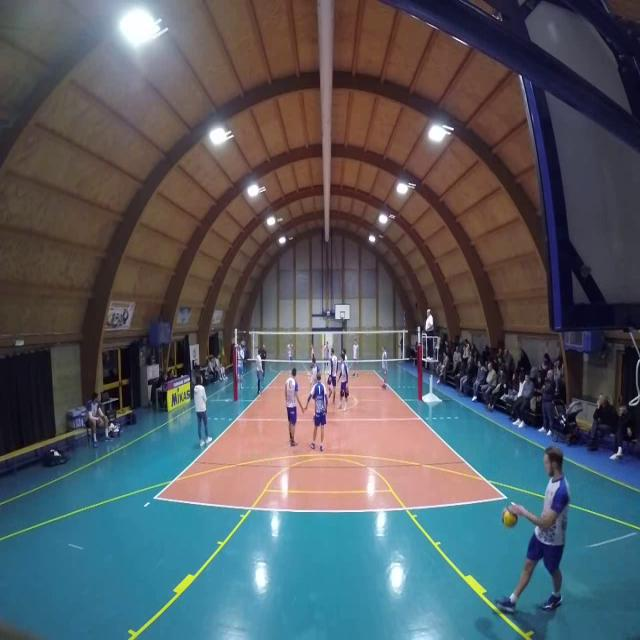Volleyball: (501, 505, 519, 530)
